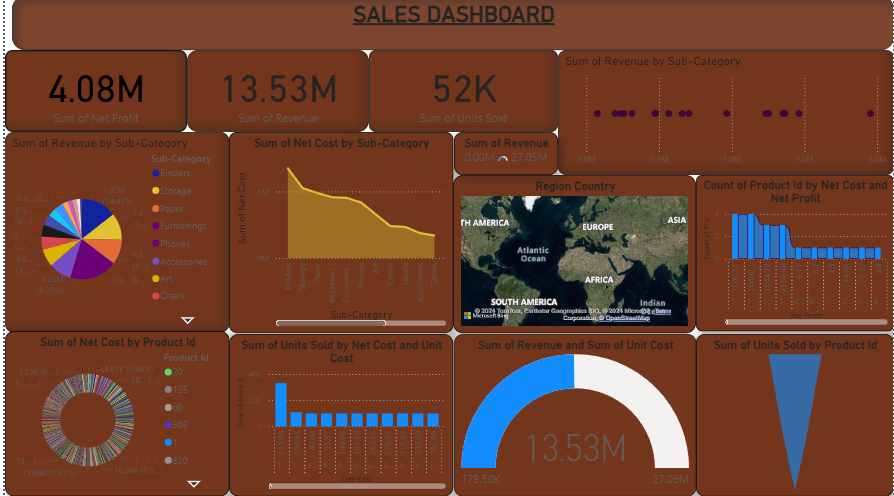

What the dashboard file says about the page in this screenshot:
{"tool":"powerbi","page":{"name":"Page 1","canvas":[1280,720],"ordinal":0},"visuals":[{"type":"textbox","title":"SALES DASHBOARD","box":[10.1,0,1270.1,77.8],"z":0},{"type":"card","fields":{"Values":["Sum(HyperStoreDataSet 1.Net Profit)"]},"box":[0,77.8,262.1,118.1],"z":1000},{"type":"card","fields":{"Values":["Sum(HyperStoreDataSet 1.Revenue)"]},"box":[262.1,77.8,262.1,118.1],"z":2000},{"type":"card","fields":{"Values":["Sum(HyperStoreDataSet 1.Units Sold)"]},"box":[524.2,77.8,272.2,118.1],"z":3000},{"type":"scatterChart","fields":{"Category":["HyperStoreDataSet 1.Sub-Category","HyperStoreDataSet 1.Units Sold"],"X":["Sum(HyperStoreDataSet 1.Revenue)"]},"box":[796.3,77.8,483.8,180],"z":4000},{"type":"pieChart","fields":{"Category":["HyperStoreDataSet 1.Sub-Category"],"Y":["Sum(HyperStoreDataSet 1.Revenue)"]},"box":[0,195.8,322.6,289.4],"z":5000},{"type":"areaChart","fields":{"Category":["HyperStoreDataSet 1.Sub-Category"],"Y":["Sum(HyperStoreDataSet 1.Net Cost)"]},"box":[322.6,195.8,322.6,289.4],"z":6000},{"type":"map","fields":{"Category":["HyperStoreDataSet 1.Region Country"]},"box":[645.1,257.8,349.9,227.5],"z":7000},{"type":"ribbonChart","fields":{"Category":["HyperStoreDataSet 1.Net Cost","HyperStoreDataSet 1.Net Profit"],"Y":["CountNonNull(HyperStoreDataSet 1.Product Id)"]},"box":[995,257.8,285.1,224.6],"z":8000},{"type":"donutChart","fields":{"Category":["HyperStoreDataSet 1.Product Id","HyperStoreDataSet 1.Revenue"],"Y":["Sum(HyperStoreDataSet 1.Net Cost)"]},"box":[0,482.4,322.6,237.6],"z":9000},{"type":"lineStackedColumnComboChart","fields":{"Category":["HyperStoreDataSet 1.Net Cost","HyperStoreDataSet 1.Unit Cost"],"Y":["Sum(HyperStoreDataSet 1.Units Sold)"]},"box":[323,486,323,234],"z":10000},{"type":"gauge","fields":{"Y":["Sum(HyperStoreDataSet 1.Revenue)"],"MinValue":["Sum(HyperStoreDataSet 1.Unit Cost)"]},"box":[646,486,349,234],"z":11000},{"type":"funnel","fields":{"Category":["HyperStoreDataSet 1.Product Id","HyperStoreDataSet 1.Net Cost"],"Y":["Sum(HyperStoreDataSet 1.Units Sold)"]},"box":[995,486,285,234],"z":12000},{"type":"gauge","fields":{"Y":["Sum(HyperStoreDataSet 1.Revenue)"]},"box":[646.6,195.8,149.8,61.9],"z":13000}]}

Visuals, with their boxes in screenshot pixels (x1, y1, x2, y2), scaled from the page's 1280x720 canvas onto the 894x496 screenshot:
"SALES DASHBOARD" textbox: 7, 0, 893, 54
card - Sum(HyperStoreDataSet 1.Net Profit): 0, 54, 183, 135
card - Sum(HyperStoreDataSet 1.Revenue): 183, 54, 366, 135
card - Sum(HyperStoreDataSet 1.Units Sold): 366, 54, 556, 135
scatterChart - HyperStoreDataSet 1.Sub-Category x HyperStoreDataSet 1.Units Sold: 556, 54, 893, 178
pieChart - HyperStoreDataSet 1.Sub-Category x Sum(HyperStoreDataSet 1.Revenue): 0, 135, 225, 334
areaChart - HyperStoreDataSet 1.Sub-Category x Sum(HyperStoreDataSet 1.Net Cost): 225, 135, 451, 334
map - HyperStoreDataSet 1.Region Country: 451, 178, 695, 334
ribbonChart - HyperStoreDataSet 1.Net Cost x HyperStoreDataSet 1.Net Profit: 695, 178, 893, 332
donutChart - HyperStoreDataSet 1.Product Id x HyperStoreDataSet 1.Revenue: 0, 332, 225, 495
lineStackedColumnComboChart - HyperStoreDataSet 1.Net Cost x HyperStoreDataSet 1.Unit Cost: 226, 335, 451, 495
gauge - Sum(HyperStoreDataSet 1.Revenue) x Sum(HyperStoreDataSet 1.Unit Cost): 451, 335, 695, 495
funnel - HyperStoreDataSet 1.Product Id x HyperStoreDataSet 1.Net Cost: 695, 335, 893, 495
gauge - Sum(HyperStoreDataSet 1.Revenue): 452, 135, 556, 178
